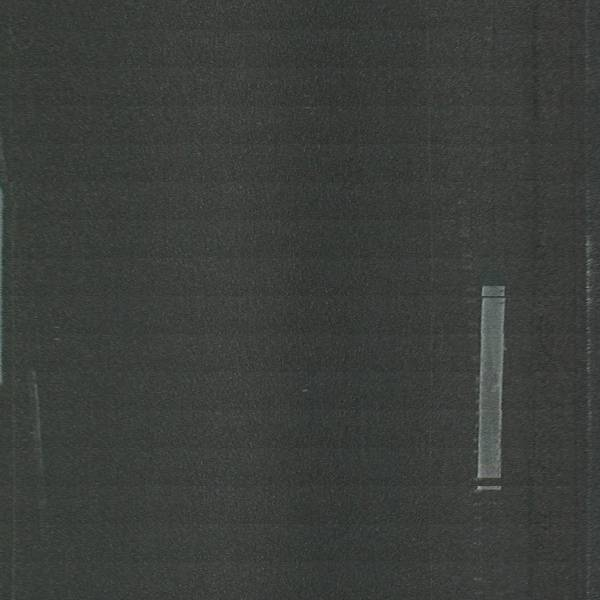road_damage: (523, 1, 552, 331)
